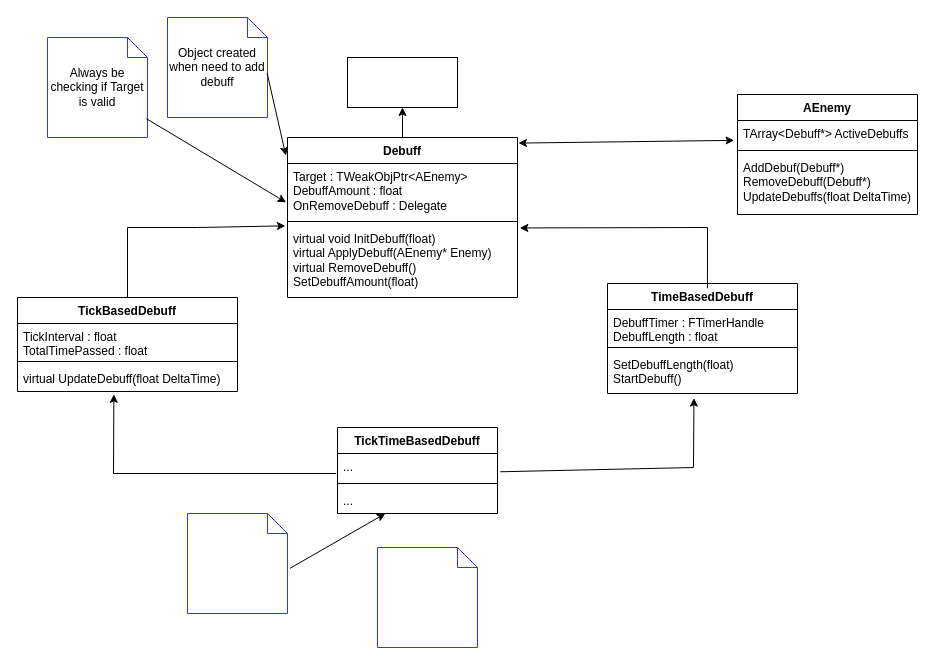
This 935x665 diagram has some shape labels left out. The centre of each missing label's shape, as x and y in pixels:
No diamond problem here, lots of virtuals involved!: point 427,597
Not actual class, just example if you need both: point 237,563
UObject: point 402,82
